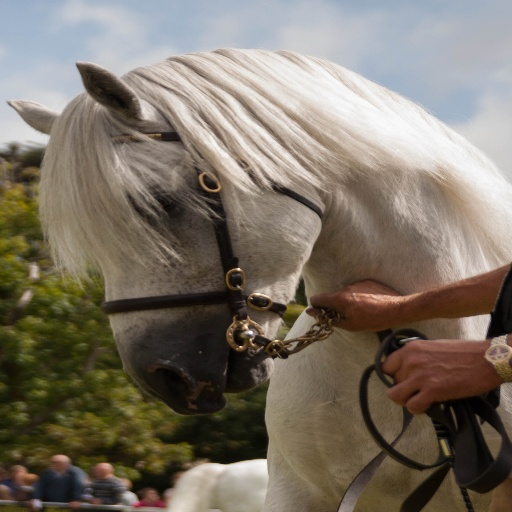hand: (377, 331, 489, 400), (303, 278, 413, 331)
